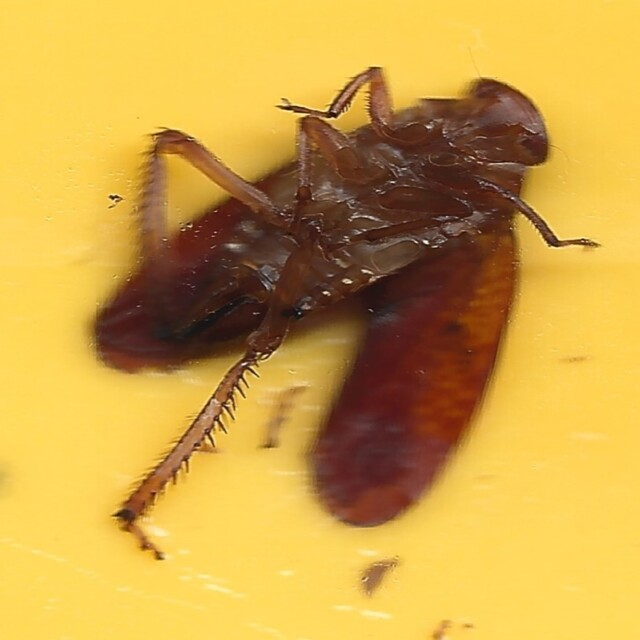Hemiptera: (88, 68, 552, 572)
